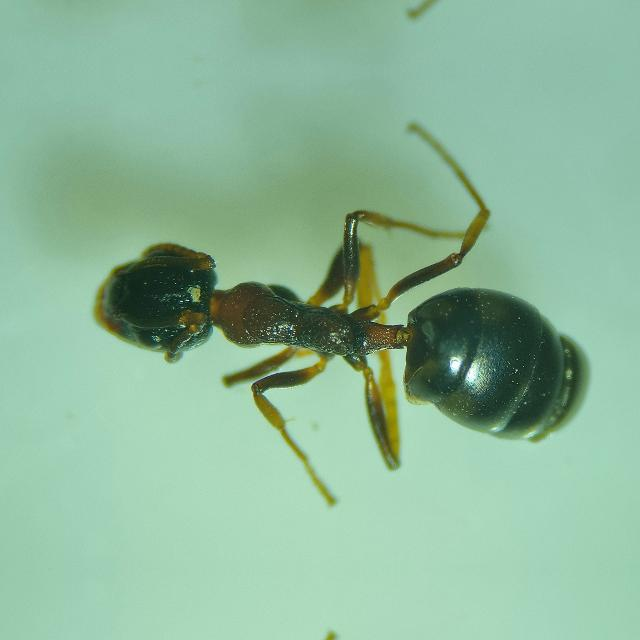Dolichoderus: (64, 182, 636, 480)
